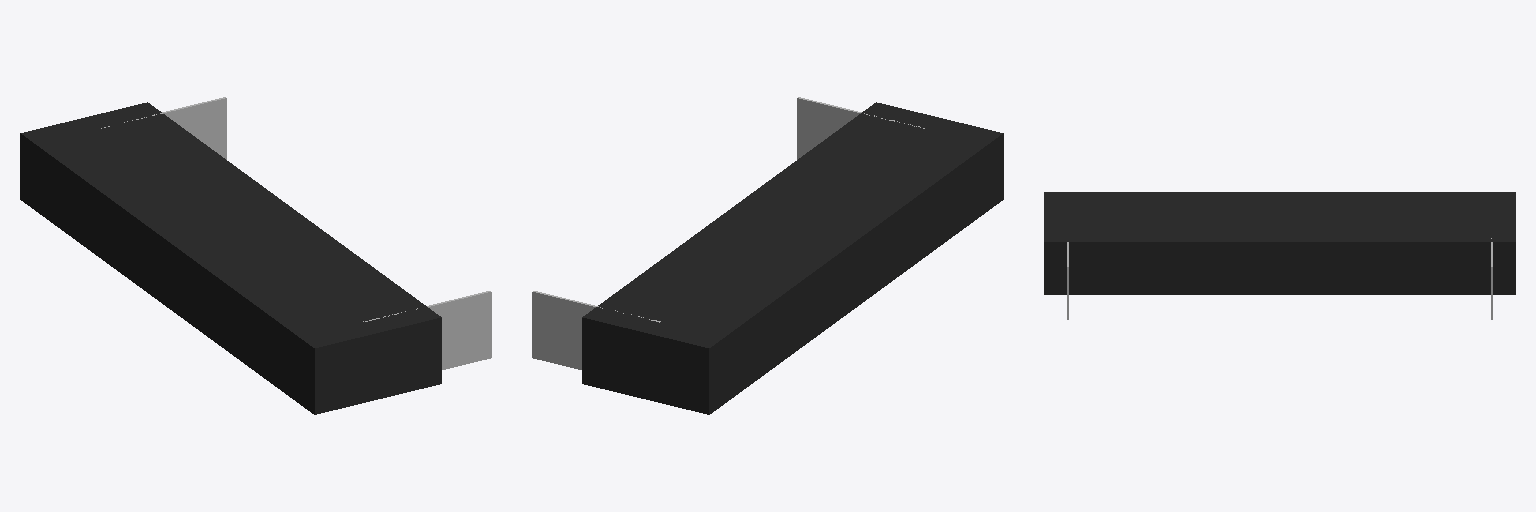
robot.urdf — wang2016_dual_wing_rig:
<?xml version="1.0"?>
<robot name="wang2016_dual_wing_rig">
  <!-- Dual-wing "wind-tunnel rig" for Wang2016 QSM demos.

  Each wing uses the same 3-DoF kinematic chain as `wang2016_single_wing.urdf`:
    - sweep: yaw about z
    - heave: roll about y
    - pitch: about x

  Wing link frame convention (matches Wang2016 co-rotating frame):
    x: spanwise (pitch axis)
    y: surface normal
    z: chordwise (in wing plane)
  -->

  <link name="base_link">
    <inertial>
      <origin xyz="0 0 0" rpy="0 0 0"/>
      <mass value="2.0"/>
      <inertia ixx="0.02" ixy="0" ixz="0" iyy="0.02" iyz="0" izz="0.02"/>
    </inertial>
    <visual>
      <origin xyz="0 0 0" rpy="0 0 0"/>
      <geometry>
        <box size="0.10 0.40 0.05"/>
      </geometry>
      <material name="dark">
        <color rgba="0.2 0.2 0.2 1"/>
      </material>
    </visual>
    <collision>
      <origin xyz="0 0 0" rpy="0 0 0"/>
      <geometry>
        <box size="0.10 0.40 0.05"/>
      </geometry>
    </collision>
  </link>

  <!-- Left wing chain -->
  <link name="left_sweep_link"/>
  <joint name="left_sweep" type="revolute">
    <parent link="base_link"/>
    <child link="left_sweep_link"/>
    <origin xyz="0 0.18 0" rpy="0 0 0"/>
    <axis xyz="0 0 1"/>
    <limit lower="-3.14159" upper="3.14159" effort="10" velocity="100"/>
  </joint>

  <link name="left_heave_link"/>
  <joint name="left_heave" type="revolute">
    <parent link="left_sweep_link"/>
    <child link="left_heave_link"/>
    <origin xyz="0 0 0" rpy="0 0 0"/>
    <axis xyz="0 1 0"/>
    <limit lower="-1.5708" upper="1.5708" effort="10" velocity="100"/>
  </joint>

  <link name="left_wing">
    <inertial>
      <origin xyz="0.05 0 0" rpy="0 0 0"/>
      <mass value="0.2"/>
      <inertia ixx="0.0004" ixy="0" ixz="0" iyy="0.0004" iyz="0" izz="0.0004"/>
    </inertial>
    <visual>
      <origin xyz="0.05 0 0" rpy="0 0 0"/>
      <geometry>
        <box size="0.10 0.002 0.05"/>
      </geometry>
      <material name="light">
        <color rgba="0.75 0.75 0.75 1"/>
      </material>
    </visual>
    <collision>
      <origin xyz="0.05 0 0" rpy="0 0 0"/>
      <geometry>
        <box size="0.10 0.002 0.05"/>
      </geometry>
    </collision>
  </link>

  <joint name="left_pitch" type="revolute">
    <parent link="left_heave_link"/>
    <child link="left_wing"/>
    <origin xyz="0 0 0" rpy="0 0 0"/>
    <axis xyz="1 0 0"/>
    <limit lower="-3.14159" upper="3.14159" effort="10" velocity="100"/>
  </joint>

  <!-- Right wing chain -->
  <link name="right_sweep_link"/>
  <joint name="right_sweep" type="revolute">
    <parent link="base_link"/>
    <child link="right_sweep_link"/>
    <origin xyz="0 -0.18 0" rpy="0 0 0"/>
    <axis xyz="0 0 1"/>
    <limit lower="-3.14159" upper="3.14159" effort="10" velocity="100"/>
  </joint>

  <link name="right_heave_link"/>
  <joint name="right_heave" type="revolute">
    <parent link="right_sweep_link"/>
    <child link="right_heave_link"/>
    <origin xyz="0 0 0" rpy="0 0 0"/>
    <axis xyz="0 1 0"/>
    <limit lower="-1.5708" upper="1.5708" effort="10" velocity="100"/>
  </joint>

  <link name="right_wing">
    <inertial>
      <origin xyz="0.05 0 0" rpy="0 0 0"/>
      <mass value="0.2"/>
      <inertia ixx="0.0004" ixy="0" ixz="0" iyy="0.0004" iyz="0" izz="0.0004"/>
    </inertial>
    <visual>
      <origin xyz="0.05 0 0" rpy="0 0 0"/>
      <geometry>
        <box size="0.10 0.002 0.05"/>
      </geometry>
      <material name="light2">
        <color rgba="0.75 0.75 0.75 1"/>
      </material>
    </visual>
    <collision>
      <origin xyz="0.05 0 0" rpy="0 0 0"/>
      <geometry>
        <box size="0.10 0.002 0.05"/>
      </geometry>
    </collision>
  </link>

  <joint name="right_pitch" type="revolute">
    <parent link="right_heave_link"/>
    <child link="right_wing"/>
    <origin xyz="0 0 0" rpy="0 0 0"/>
    <axis xyz="1 0 0"/>
    <limit lower="-3.14159" upper="3.14159" effort="10" velocity="100"/>
  </joint>
</robot>

--- Facts derived from the render (not from the file) ---
The picture shows the robot from 3 angles, left to right: view 1: azimuth 30°, elevation 25°; view 2: azimuth 150°, elevation 25°; view 3: azimuth 270°, elevation 25°; orthographic projection.
Robot: wang2016_dual_wing_rig — 7 links, 6 joints (6 revolute); root link base_link; default pose: all joints at 0.
Links seen in each view (by area): view 1: base_link, right_wing, left_wing; view 2: base_link, left_wing, right_wing; view 3: base_link.
Boxes of the visible links, bbox=[...] form: base_link: bbox=[20, 102, 441, 414]; right_wing: bbox=[363, 291, 491, 369]; left_wing: bbox=[101, 97, 226, 159]; base_link: bbox=[582, 102, 1003, 414]; left_wing: bbox=[532, 291, 660, 369]; right_wing: bbox=[797, 97, 924, 159]; base_link: bbox=[1044, 192, 1515, 294].
Size in the robot's own frame: 0.15 by 0.4 by 0.05 metres.
Geometry: primitives only (box / cylinder / sphere), no mesh files.
